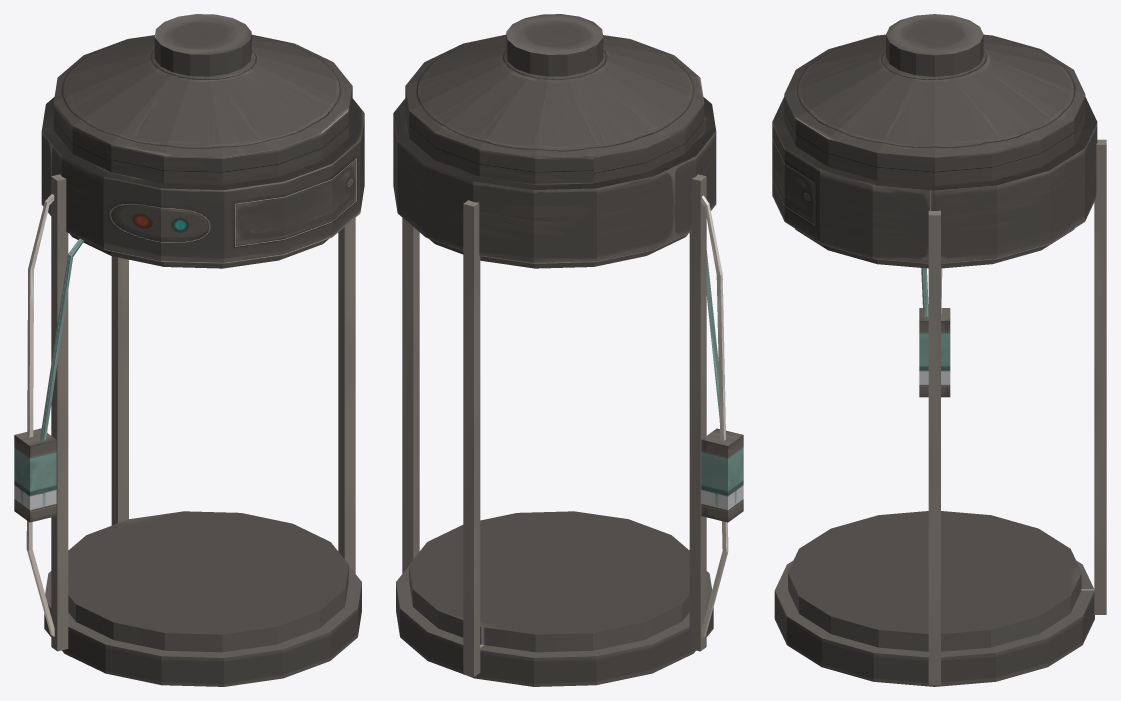
File: Goal.obj
The picture shows the model from 3 angles, left to right: view 1: azimuth 30°, elevation 25°; view 2: azimuth 150°, elevation 25°; view 3: azimuth 270°, elevation 25°; orthographic projection.
Visible parts, largest first — view 1: Cube_Cube.001; view 2: Cube_Cube.001; view 3: Cube_Cube.001.
Boxes of the visible parts, box(x1,y1,x2,y2) form: Cube_Cube.001: box(14, 14, 364, 686); Cube_Cube.001: box(393, 14, 743, 686); Cube_Cube.001: box(772, 14, 1106, 686).
Size of the model in its own units: 2.52 by 4.27 by 2.22.
Materials: 1 (1 with a texture image).
